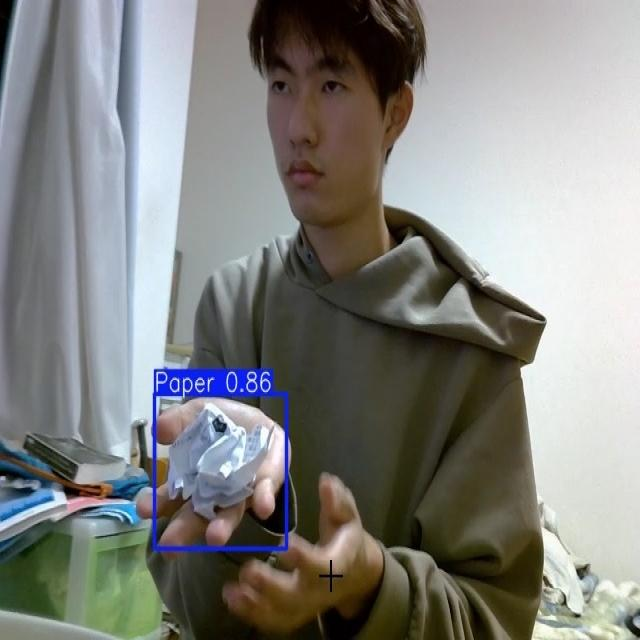paper: (165, 402, 272, 522)
